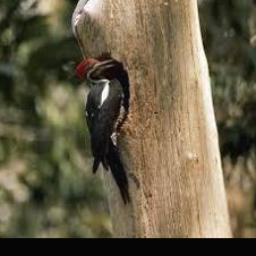Woodpecker: (76, 58, 131, 204)
